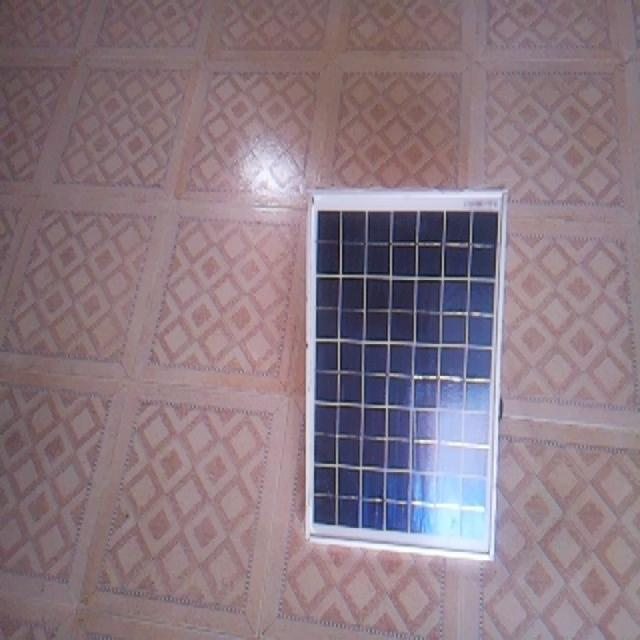Normal Solar Panel: (306, 191, 508, 560)
